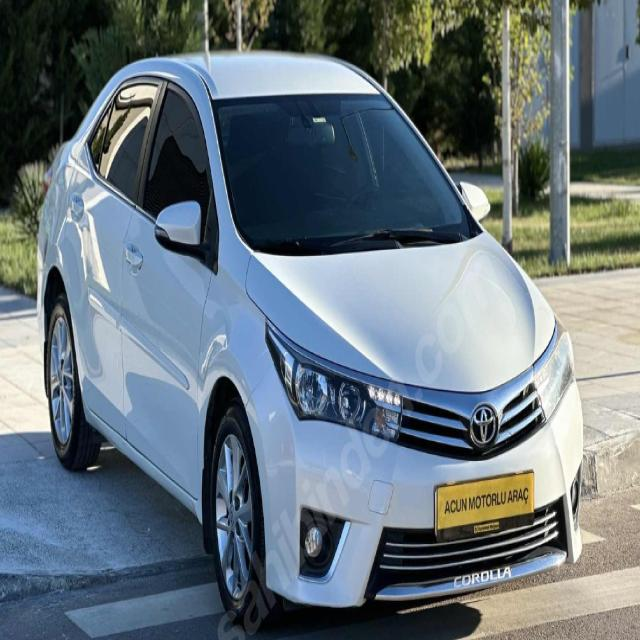toyota: (466, 398, 502, 452)
